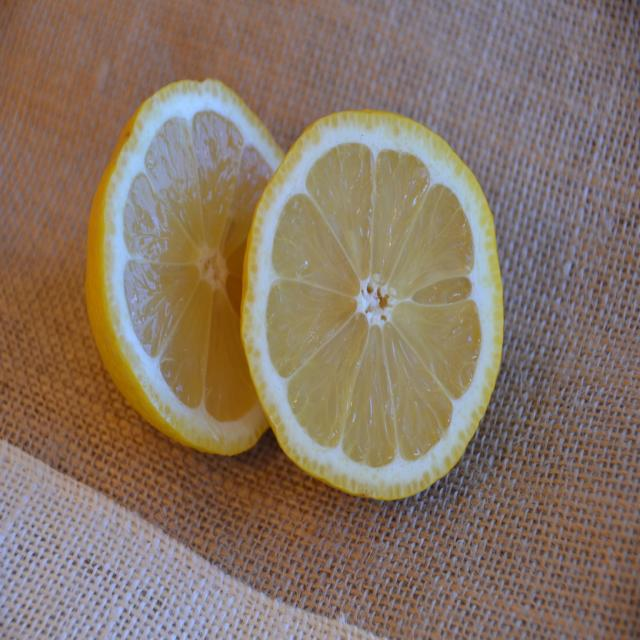Lemon: (243, 109, 504, 500), (86, 80, 284, 458)
